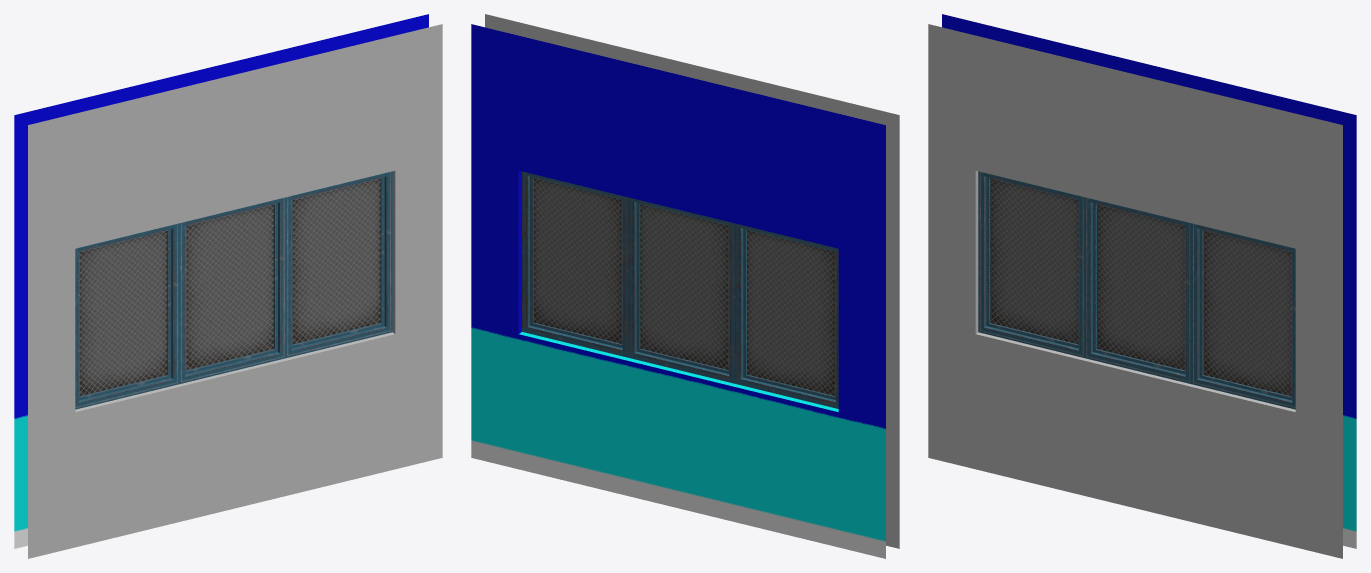
File: SM_Wall_Interior_Windows.fbx
3 renders of one model, left to right at view 1: azimuth 30°, elevation 25°; view 2: azimuth 150°, elevation 25°; view 3: azimuth 330°, elevation 25°, orthographic.
Visible parts, largest first — view 1: SM_Wall_Interior_Windows; view 2: SM_Wall_Interior_Windows; view 3: SM_Wall_Interior_Windows.
Part boxes in pixels (x1,y1,x2,y2): SM_Wall_Interior_Windows: (14, 14, 442, 558); SM_Wall_Interior_Windows: (471, 14, 899, 558); SM_Wall_Interior_Windows: (928, 14, 1356, 558).
Bounding box in the file's own units: 350 × 20 × 350.
Materials: 4 (3 with a texture image).
